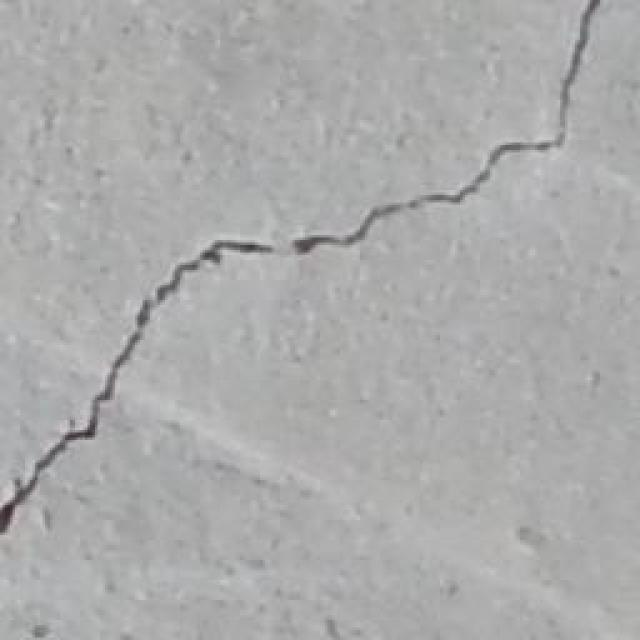concrete-crack: (0, 240, 275, 538), (288, 0, 602, 252)
